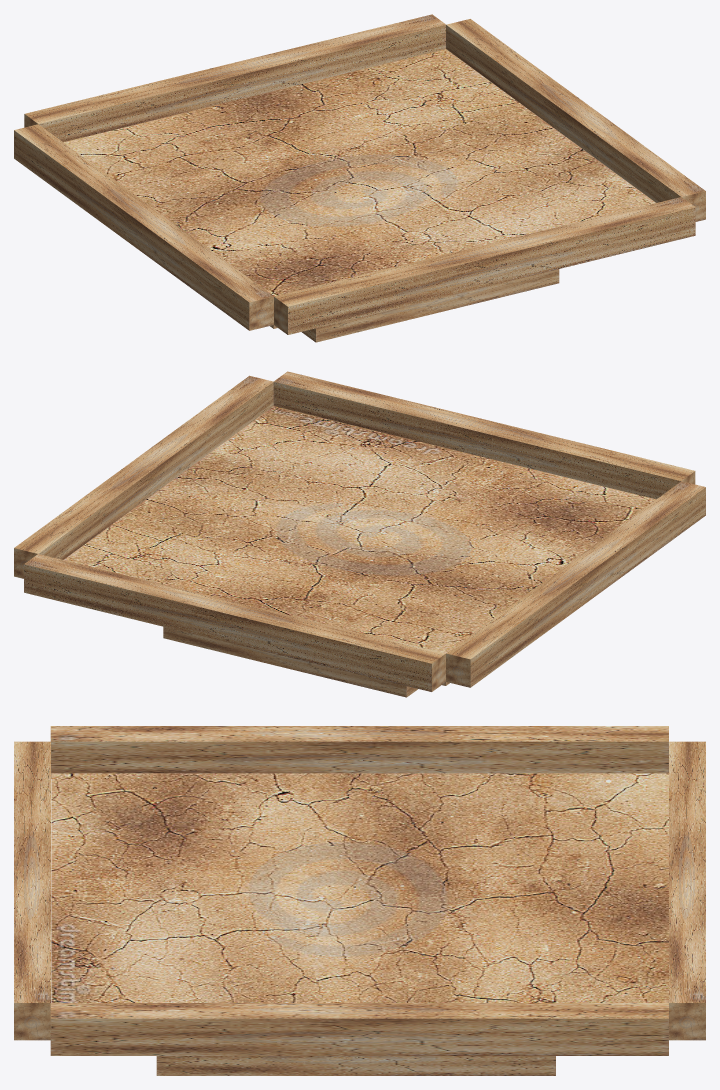
File: CircuitoBasico02.DAE
The picture shows the model from 3 angles, top to bottom: view 1: azimuth 30°, elevation 25°; view 2: azimuth 150°, elevation 25°; view 3: azimuth 270°, elevation 25°; orthographic projection. The views are drawn at different scales.
Visible parts, largest first — view 1: Box_Suelo, Box_Lateral_004, Box_Lateral_003, Box_Lateral_01, Box_Lateral_02, Box_Lateral_005; view 2: Box_Suelo, Box_Lateral_003, Box_Lateral_004, Box_Lateral_01, Box_Lateral_02, Box_Lateral_005; view 3: Box_Suelo, Box_Lateral_02, Box_Lateral_01, Box_Lateral_003, Box_Lateral_004, Box_Lateral_005.
Boxes of the visible parts, bbox=[...] form: Box_Suelo: bbox=[63, 49, 655, 328]; Box_Lateral_004: bbox=[274, 197, 695, 334]; Box_Lateral_003: bbox=[24, 14, 445, 142]; Box_Lateral_01: bbox=[14, 124, 273, 330]; Box_Lateral_02: bbox=[446, 19, 705, 221]; Box_Lateral_005: bbox=[302, 269, 559, 342]; Box_Suelo: bbox=[64, 406, 655, 685]; Box_Lateral_003: bbox=[24, 554, 445, 691]; Box_Lateral_004: bbox=[273, 371, 695, 499]; Box_Lateral_01: bbox=[446, 481, 705, 687]; Box_Lateral_02: bbox=[14, 375, 273, 578]; Box_Lateral_005: bbox=[163, 626, 417, 697]; Box_Suelo: bbox=[51, 773, 668, 1002]; Box_Lateral_02: bbox=[50, 1003, 668, 1055]; Box_Lateral_01: bbox=[50, 726, 668, 778]; Box_Lateral_003: bbox=[669, 741, 705, 1040]; Box_Lateral_004: bbox=[14, 741, 50, 1040]; Box_Lateral_005: bbox=[156, 1056, 555, 1075].
Bounding box in the file's own units: 56.02 × 56.01 × 11.22.
Materials: 1 (1 with a texture image).
